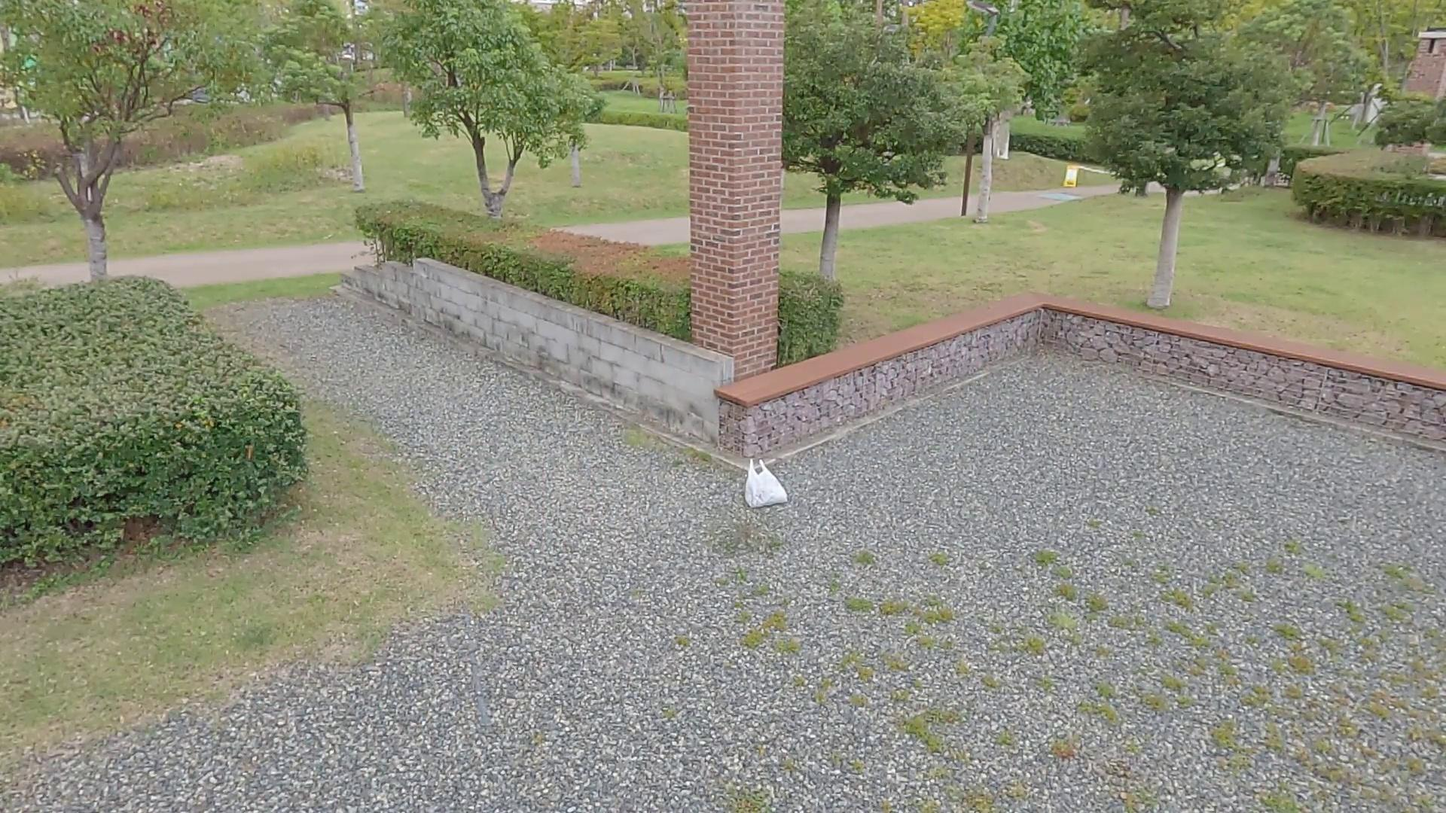trash: (732, 451, 793, 510)
